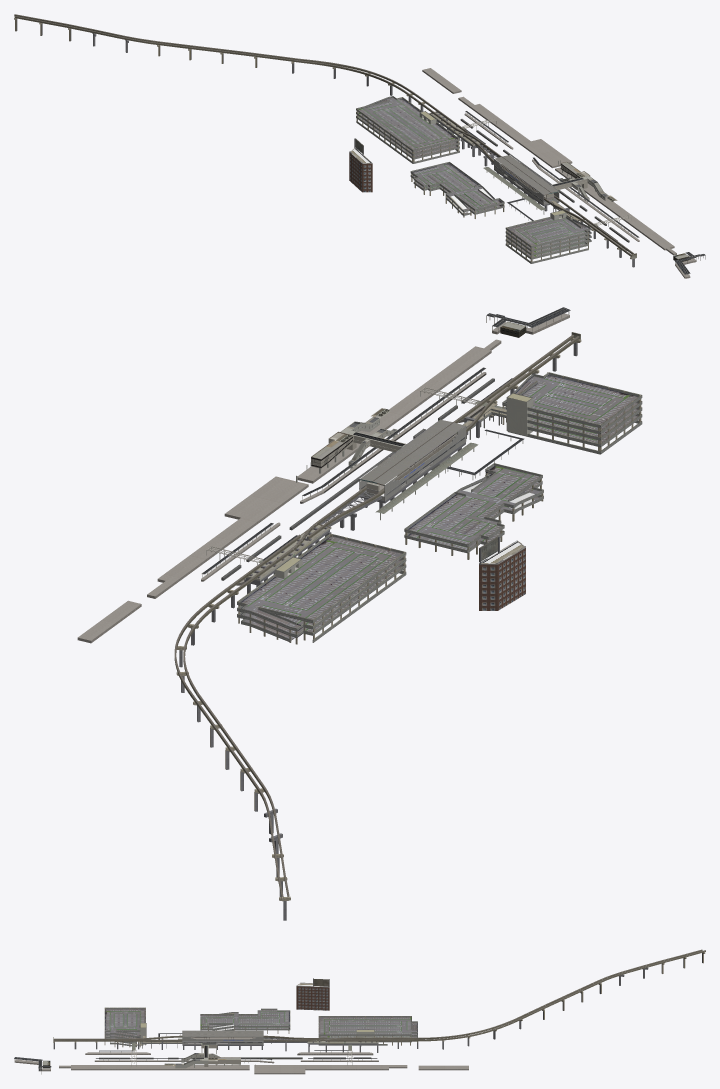
The model's file is kado_04.glb.
3 renders of one model, top to bottom at view 1: azimuth 30°, elevation 25°; view 2: azimuth 150°, elevation 25°; view 3: azimuth 270°, elevation 25°, orthographic. The views are drawn at different scales.
Parts seen in each view (by area): view 1: 平面.096, 平面.097, 平面, 平面.116, 平面.014, 平面.087, Cube.011, Cube.023, 平面.078, 平面.098, Cube.094, 平面.076 (+2 smaller); view 2: 平面.096, 平面, 平面.097, 平面.116, 平面.014, Cube.011, Cube.023, 平面.087, 平面.098, Cube.061, 平面.078, 平面.076 (+1 smaller); view 3: 平面.096, 平面, 平面.097, 平面.014, Cube.011, 平面.116, Cube.023, Cube.062, 平面.098, 平面.076, 平面.005, Cube.094 (+4 smaller).
Part boxes in pixels (x1=…): 平面.096: x1=358, y1=98, x2=457, y2=149; 平面.097: x1=412, y1=163, x2=502, y2=210; 平面: x1=422, y1=68, x2=572, y2=168; 平面.116: x1=508, y1=217, x2=585, y2=245; 平面.014: x1=555, y1=167, x2=696, y2=262; 平面.087: x1=505, y1=235, x2=588, y2=263; Cube.011: x1=349, y1=148, x2=372, y2=192; Cube.023: x1=495, y1=155, x2=558, y2=195; 平面.078: x1=356, y1=116, x2=459, y2=163; 平面.098: x1=410, y1=162, x2=504, y2=212; Cube.094: x1=157, y1=41, x2=300, y2=62; 平面.076: x1=356, y1=97, x2=459, y2=151; 平面.096: x1=241, y1=536, x2=402, y2=619; 平面: x1=77, y1=476, x2=308, y2=643; 平面.097: x1=407, y1=465, x2=540, y2=544; 平面.116: x1=522, y1=375, x2=638, y2=424; 平面.014: x1=297, y1=322, x2=506, y2=483; Cube.011: x1=479, y1=540, x2=525, y2=610; Cube.023: x1=360, y1=420, x2=464, y2=485; 平面.087: x1=508, y1=407, x2=642, y2=454; 平面.098: x1=404, y1=463, x2=543, y2=547; Cube.061: x1=384, y1=425, x2=466, y2=500; 平面.078: x1=237, y1=564, x2=406, y2=642; 平面.076: x1=237, y1=533, x2=406, y2=623; 平面.096: x1=319, y1=1017, x2=411, y2=1034; 平面: x1=254, y1=1065, x2=468, y2=1074; 平面.097: x1=200, y1=1009, x2=289, y2=1030; 平面.014: x1=39, y1=1065, x2=249, y2=1071; Cube.011: x1=296, y1=982, x2=329, y2=1010; 平面.116: x1=105, y1=1009, x2=145, y2=1031; Cube.023: x1=182, y1=1030, x2=263, y2=1037; Cube.062: x1=182, y1=1036, x2=263, y2=1044; 平面.098: x1=200, y1=1008, x2=290, y2=1030; 平面.076: x1=318, y1=1016, x2=411, y2=1035; 平面.005: x1=297, y1=1052, x2=373, y2=1055; Cube.094: x1=515, y1=980, x2=601, y2=1020.
Size of what is drawn, in the model's own units: 33.25 by 4.27 by 85.7.
Materials: 7 (6 with a texture image).
